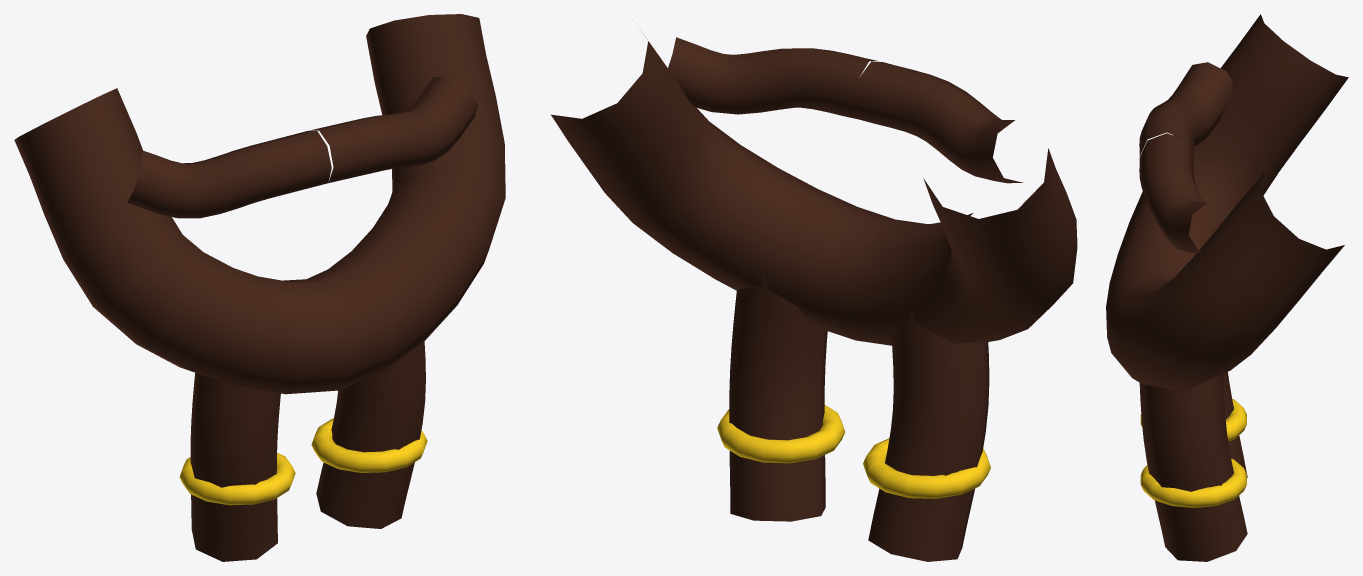
Rendered from full_viking.glb.
3 renders of one model, left to right at view 1: azimuth 30°, elevation 25°; view 2: azimuth 150°, elevation 25°; view 3: azimuth 270°, elevation 25°, orthographic. The views are drawn at different scales.
Visible parts, largest first — view 1: viking_cheek_wrap, viking_braid_-1, viking_braid_1, mustache_-1, mustache_1, viking_clasp_1, viking_clasp_-1; view 2: viking_cheek_wrap, viking_braid_-1, viking_braid_1, mustache_1, mustache_-1, viking_clasp_1, viking_clasp_-1; view 3: viking_cheek_wrap, viking_braid_1, mustache_1, mustache_-1, viking_clasp_1, viking_braid_-1, viking_clasp_-1.
Boxes of the visible parts, x1,y1,x2,y2 form: viking_cheek_wrap: [14, 14, 505, 394]; viking_braid_-1: [190, 373, 280, 561]; viking_braid_1: [316, 341, 425, 528]; mustache_-1: [127, 131, 331, 218]; mustache_1: [308, 76, 478, 182]; viking_clasp_1: [311, 418, 427, 472]; viking_clasp_-1: [179, 452, 295, 505]; viking_cheek_wrap: [551, 34, 1077, 345]; viking_braid_-1: [868, 308, 989, 561]; viking_braid_1: [729, 272, 827, 521]; mustache_1: [668, 37, 878, 119]; mustache_-1: [853, 61, 1023, 183]; viking_clasp_1: [717, 405, 845, 463]; viking_clasp_-1: [863, 438, 990, 498]; viking_cheek_wrap: [1106, 14, 1348, 390]; viking_braid_1: [1139, 374, 1247, 561]; mustache_1: [1139, 133, 1209, 253]; mustache_-1: [1139, 62, 1232, 156]; viking_clasp_1: [1140, 458, 1246, 507]; viking_braid_-1: [1223, 372, 1247, 477]; viking_clasp_-1: [1140, 399, 1246, 441].
Size of the model in its own units: 0.2351 by 0.2224 by 0.116.
